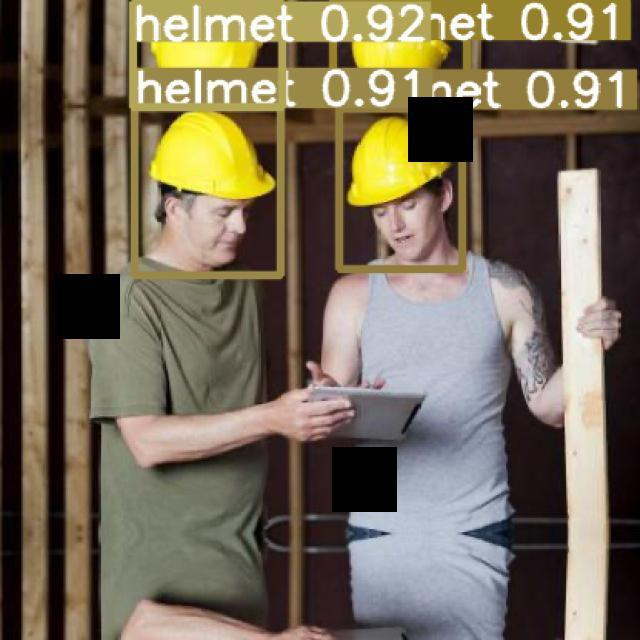yellow helmet: (144, 109, 279, 210), (345, 113, 466, 215)
